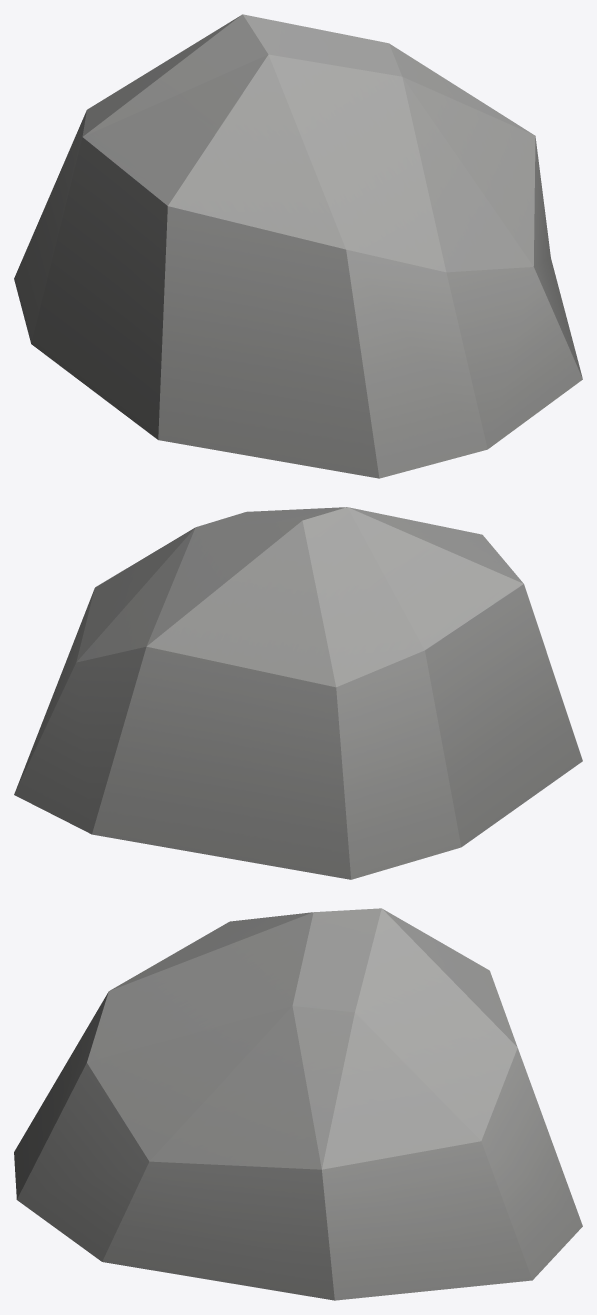
The model's file is Cavern_RockMed-01.fbx.
3 renders of one model, top to bottom at view 1: azimuth 30°, elevation 25°; view 2: azimuth 150°, elevation 25°; view 3: azimuth 270°, elevation 25°, orthographic. The views are drawn at different scales.
Visible parts, largest first — view 1: Cavern_RockMed-01; view 2: Cavern_RockMed-01; view 3: Cavern_RockMed-01.
Boxes of the visible parts, x1,y1,x2,y2 form: Cavern_RockMed-01: [14, 14, 582, 478]; Cavern_RockMed-01: [14, 507, 582, 879]; Cavern_RockMed-01: [14, 908, 582, 1300].
Bounding box in the file's own units: 136 × 81.83 × 155.
Materials: 1 (1 with a texture image).
